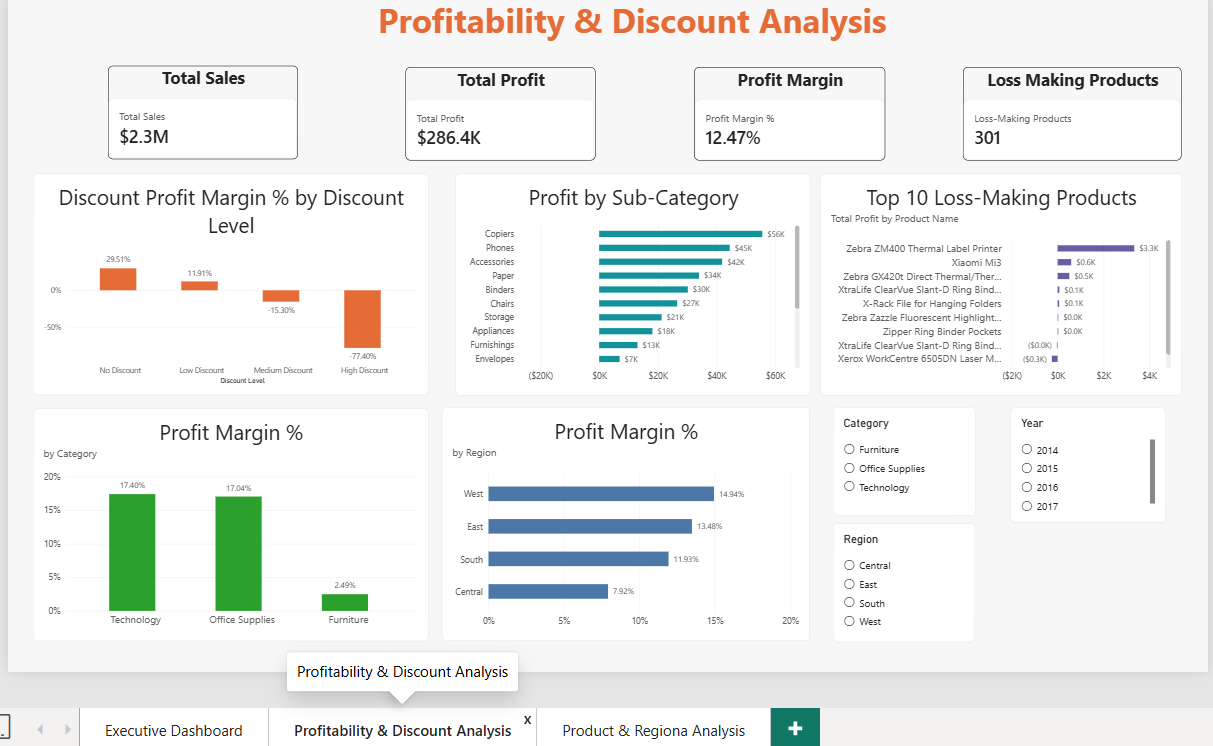

The page's visual inventory and layout, read from the dashboard file:
{"tool":"powerbi","page":{"name":"Profitability & Discount Analysis","canvas":[1920,1080],"ordinal":1},"visuals":[{"type":"textbox","box":[78.2,0,1842.2,78.2],"z":0},{"type":"cardVisual","title":"Total Sales","fields":{"Data":["sales.Total Sales"]},"box":[160,110,303.8,149.8],"z":1000},{"type":"cardVisual","title":"Profit Margin","fields":{"Data":["sales.Profit Margin %"]},"box":[1098,112,305.9,149.8],"z":2000},{"type":"cardVisual","title":"Loss Making Products","fields":{"Data":["sales.Loss-Making Products"]},"box":[1528,112,349.5,149.8],"z":3000},{"type":"cardVisual","title":"Total Profit","fields":{"Data":["sales.Total Profit"]},"box":[636,112,303.8,149.8],"z":4000},{"type":"clusteredColumnChart","fields":{"Category":["sales.Discount Level"],"Y":["sales.Discount Profit Margin %"]},"box":[40,282.5,632.5,355],"z":5000},{"type":"clusteredBarChart","title":"Profit by Sub-Category","fields":{"Category":["sales.Sub-Category"],"Y":["sales.Total Profit"]},"box":[716,282,568,356],"z":6000},{"type":"barChart","title":"Top 10 Loss-Making Products","fields":{"Category":["sales.Product Name"],"Y":["sales.Total Profit"]},"box":[1300,282,578,356],"z":7000},{"type":"clusteredColumnChart","fields":{"Category":["sales.Category"],"Y":["sales.Profit Margin %"]},"box":[39.5,657.5,632.5,372.4],"z":8000},{"type":"listSlicer","fields":{"Values":["sales.Order Date.Variation.Date Hierarchy.Year"]},"box":[1603.3,656.7,248.9,184.4],"z":9000},{"type":"listSlicer","fields":{"Values":["sales.Region"]},"box":[1320,841.2,227.5,190],"z":10000},{"type":"listSlicer","fields":{"Values":["sales.Category"]},"box":[1320,656,228,174],"z":11000},{"type":"clusteredBarChart","fields":{"Category":["sales.Region"],"Y":["sales.Profit Margin %"]},"box":[694.9,655.4,588.8,374.5],"z":12000}]}

Visuals, with their boxes on the page's 1920x1080 design canvas (x1, y1, x2, y2). These are canvas units, not pixel positions in the 1213x746 screenshot, which may show the page scaled, cropped or inside an application window:
textbox: [left=78, top=0, right=1920, bottom=78]
"Total Sales" cardVisual: [left=160, top=110, right=464, bottom=260]
"Profit Margin" cardVisual: [left=1098, top=112, right=1404, bottom=262]
"Loss Making Products" cardVisual: [left=1528, top=112, right=1878, bottom=262]
"Total Profit" cardVisual: [left=636, top=112, right=940, bottom=262]
clusteredColumnChart - sales.Discount Level x sales.Discount Profit Margin %: [left=40, top=282, right=672, bottom=638]
"Profit by Sub-Category" clusteredBarChart: [left=716, top=282, right=1284, bottom=638]
"Top 10 Loss-Making Products" barChart: [left=1300, top=282, right=1878, bottom=638]
clusteredColumnChart - sales.Category x sales.Profit Margin %: [left=40, top=658, right=672, bottom=1030]
listSlicer - sales.Order Date.Variation.Date Hierarchy.Year: [left=1603, top=657, right=1852, bottom=841]
listSlicer - sales.Region: [left=1320, top=841, right=1548, bottom=1031]
listSlicer - sales.Category: [left=1320, top=656, right=1548, bottom=830]
clusteredBarChart - sales.Region x sales.Profit Margin %: [left=695, top=655, right=1284, bottom=1030]
